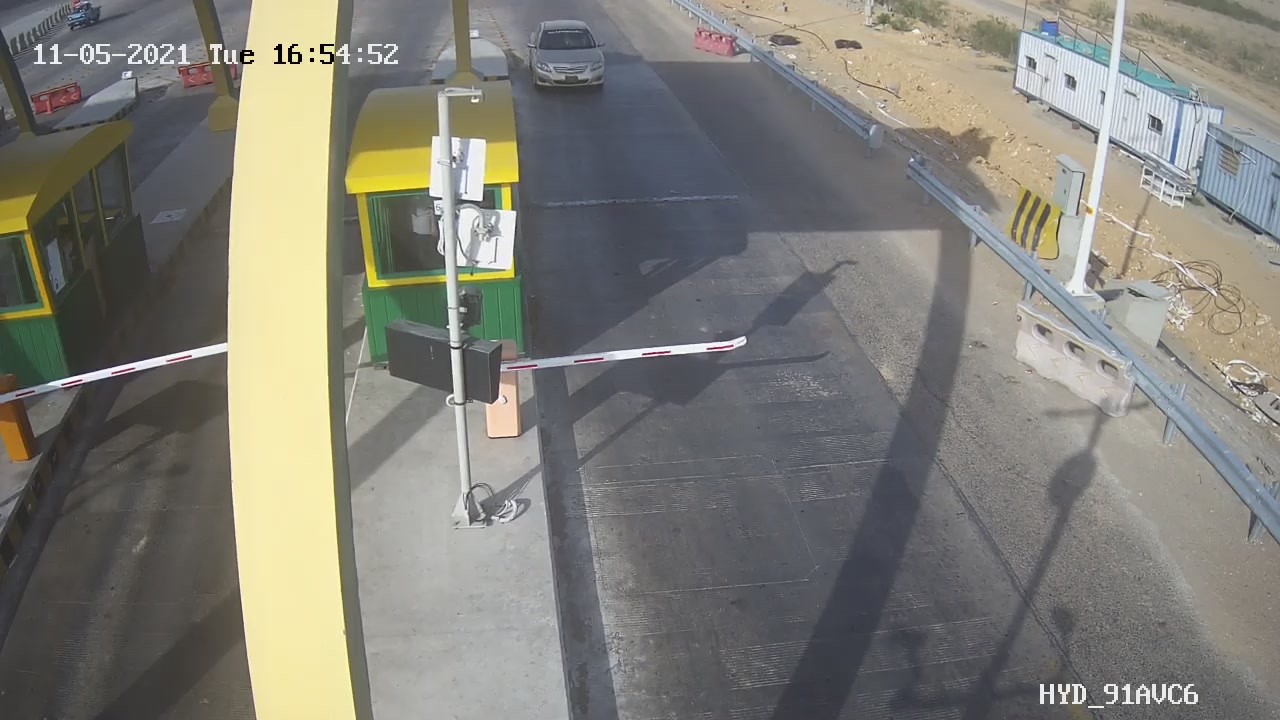F1: (513, 12, 624, 103)
